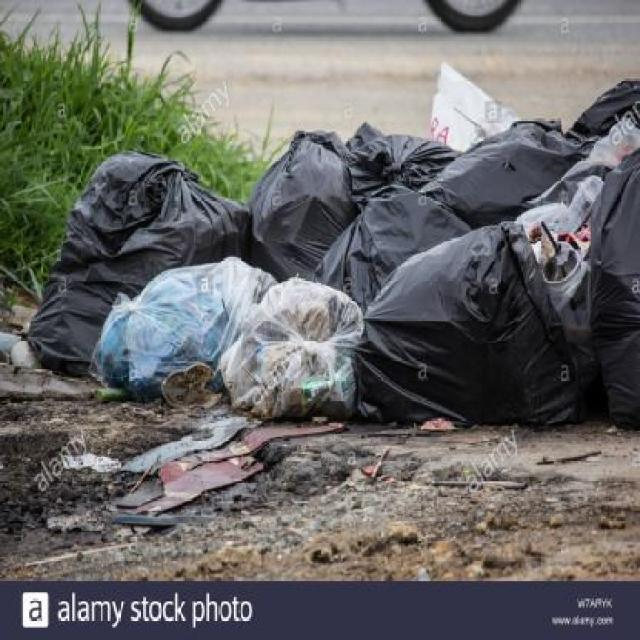garbage: (43, 85, 640, 416), (105, 409, 365, 569), (0, 283, 43, 384), (425, 468, 538, 496), (411, 58, 505, 90)
